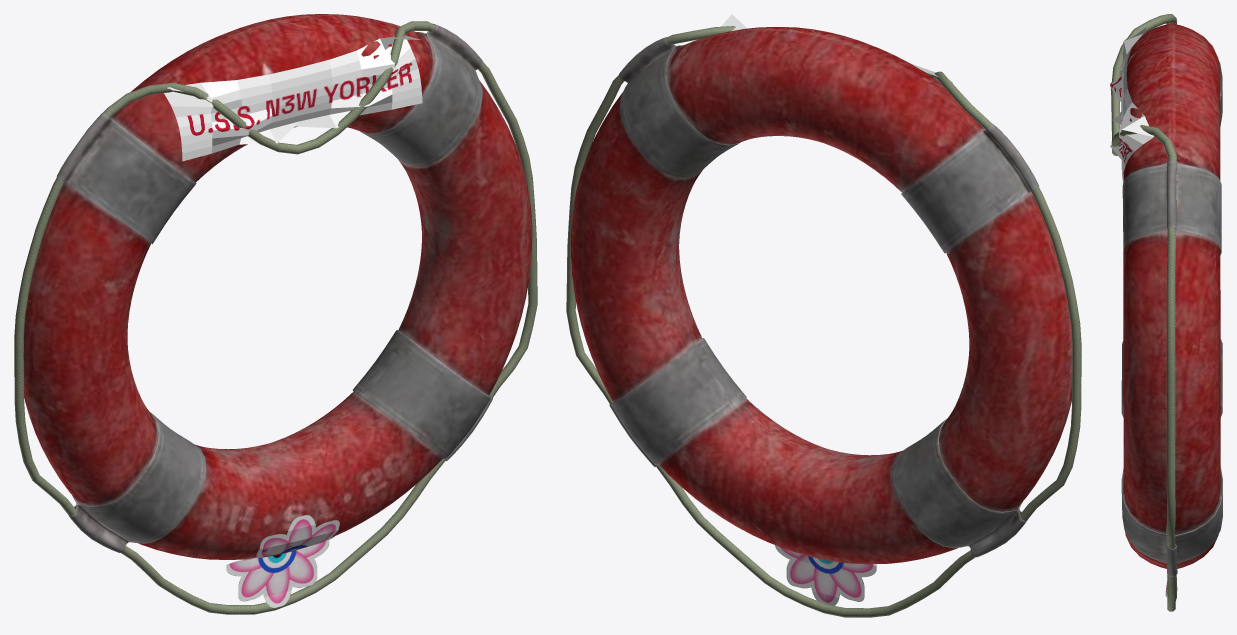
File: nyb_ontown_buoy.glb
3 views of the same model, side by side, from view 1: azimuth 30°, elevation 25°; view 2: azimuth 150°, elevation 25°; view 3: azimuth 270°, elevation 25° (orthographic). The views are drawn at different scales.
Parts seen in each view (by area): view 1: lifebuoy, stk_lbl_ab01afb070.png, stk_eyeflower_die.png; view 2: lifebuoy, stk_eyeflower_die.png; view 3: lifebuoy, stk_lbl_ab01afb070.png.
Boxes of the visible parts, bbox=[...] form: lifebuoy: bbox=[14, 14, 537, 614]; stk_lbl_ab01afb070.png: bbox=[164, 35, 422, 161]; stk_eyeflower_die.png: bbox=[226, 515, 339, 607]; lifebuoy: bbox=[566, 26, 1081, 617]; stk_eyeflower_die.png: bbox=[775, 545, 877, 605]; lifebuoy: bbox=[1111, 14, 1222, 611]; stk_lbl_ab01afb070.png: bbox=[1110, 27, 1156, 182].
Size of the model in its own units: 0.7831 by 0.8412 by 0.1565.
Materials: 3 (3 with a texture image).
